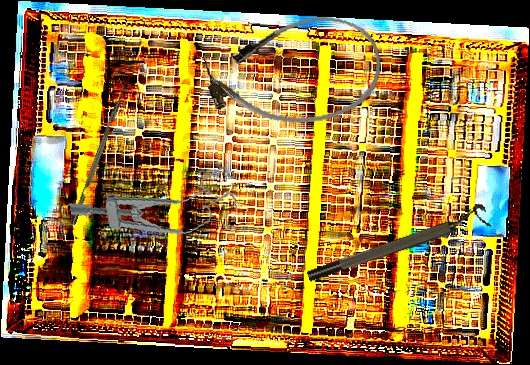Cannula: (200, 8, 388, 137)
Chopper: (63, 77, 131, 226)
Fixation Ring: (303, 201, 491, 286)
Speculum: (67, 164, 243, 252)
